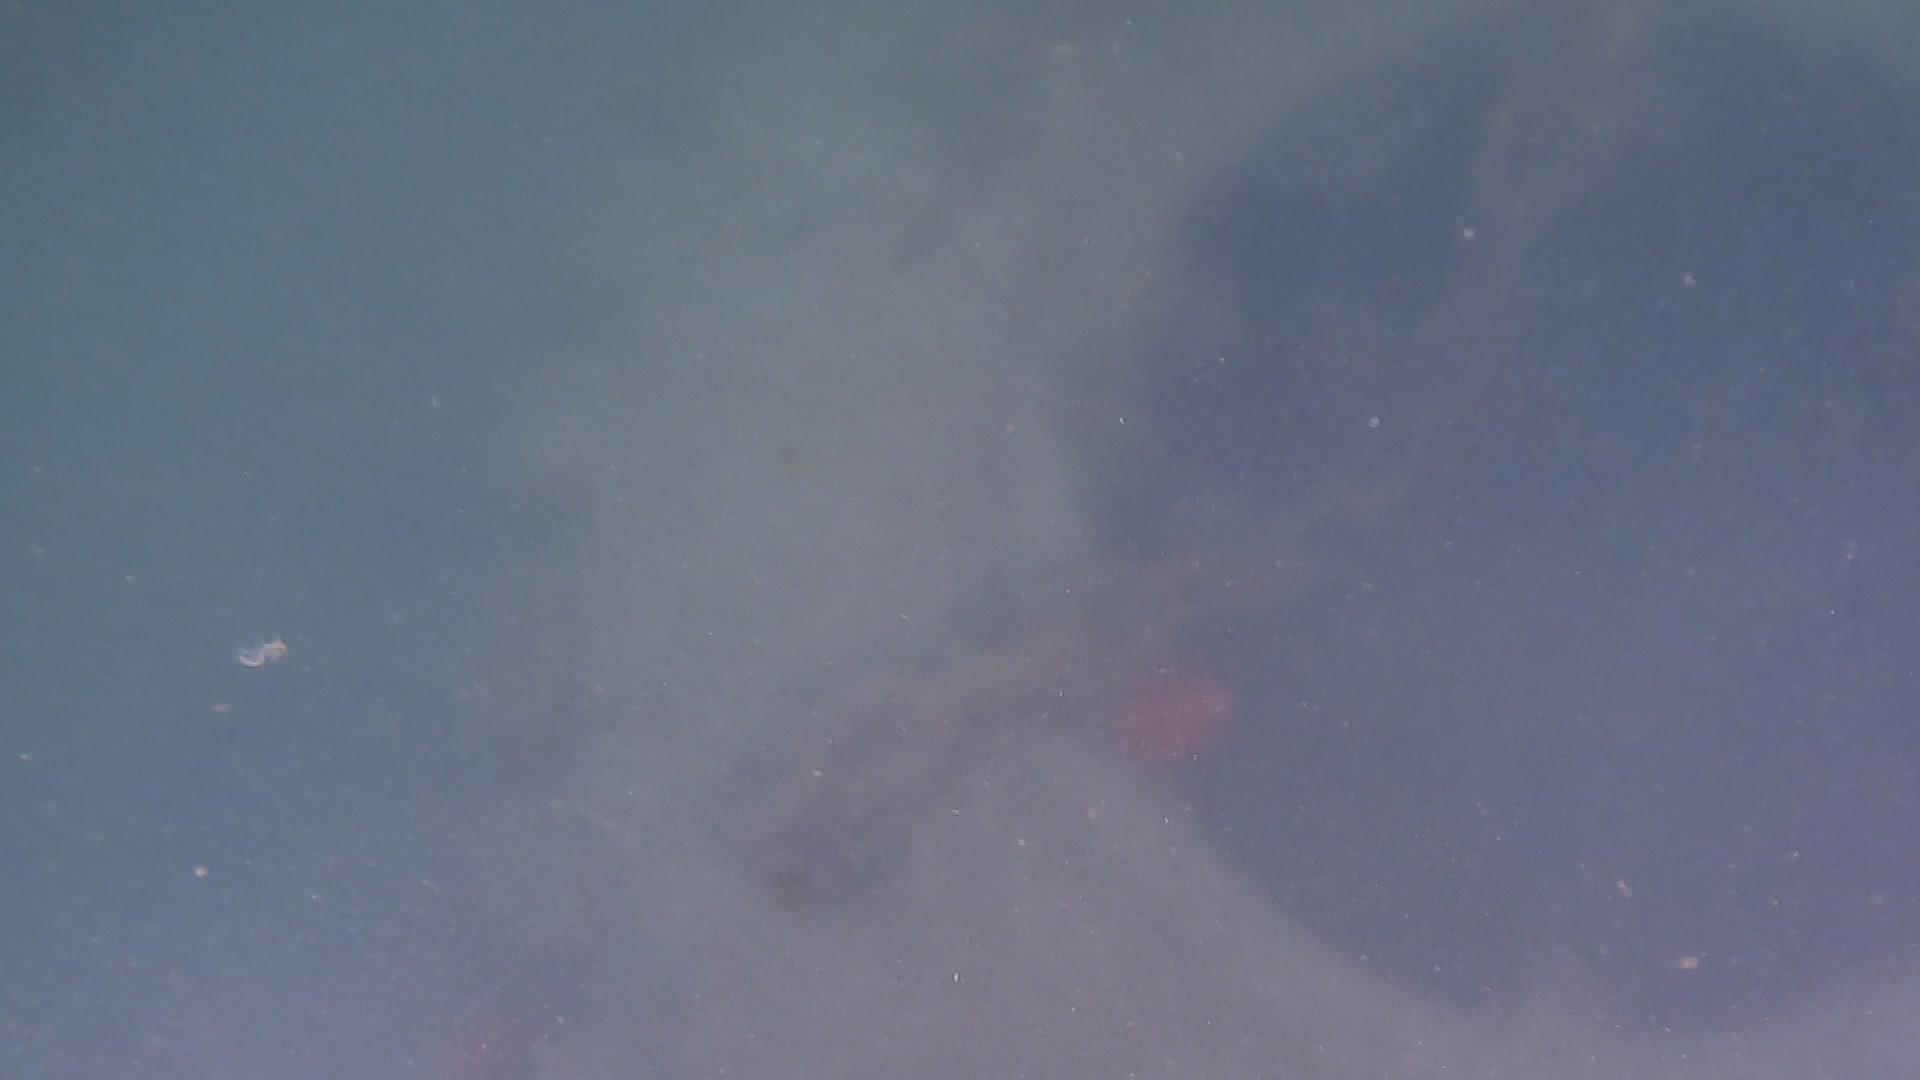tire: (462, 0, 1920, 1080)
